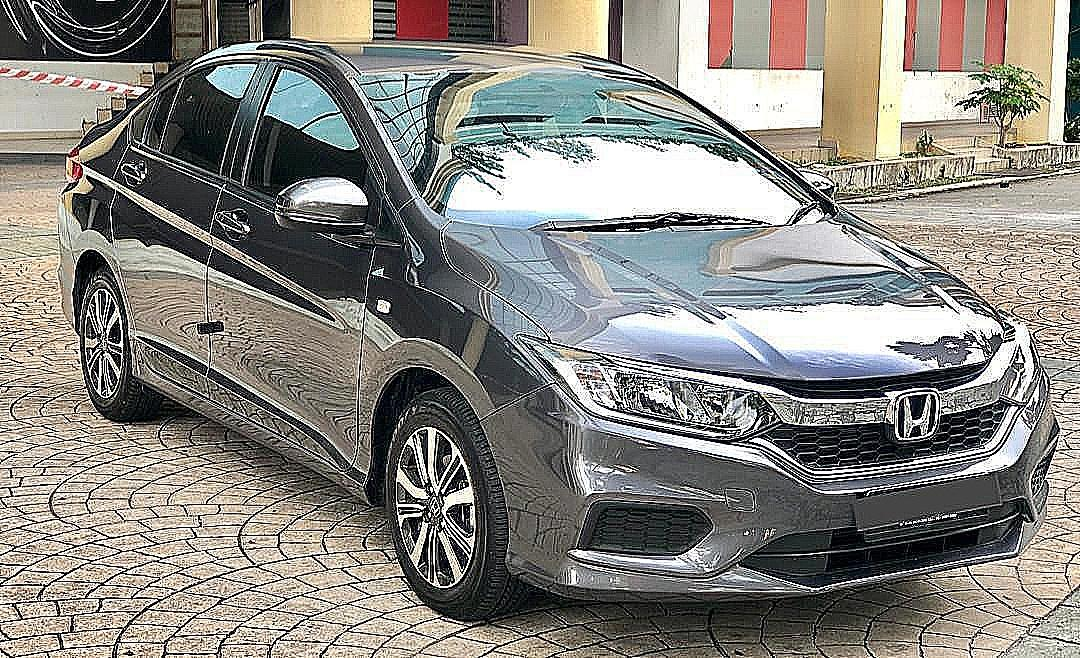Car hood: (435, 215, 1010, 383)
Driver-s door - -F-R-: (216, 47, 392, 477)
Fender - -F-R-: (356, 203, 575, 515)
Fender - -R-R-: (69, 138, 144, 392)
Front bumper: (485, 377, 1070, 612)
Headlight - -L-: (987, 319, 1070, 420)
Headlight - -R-: (505, 317, 810, 448)
Passenger-s door - -R-R-: (110, 49, 250, 398)
Rear bumper: (39, 195, 95, 365)
Rear light - -R-: (49, 139, 100, 195)
Side bumper - -R-: (124, 347, 390, 539)
Side mirror - -L-: (780, 159, 850, 205)
Side mirror - -R-: (262, 164, 374, 239)
